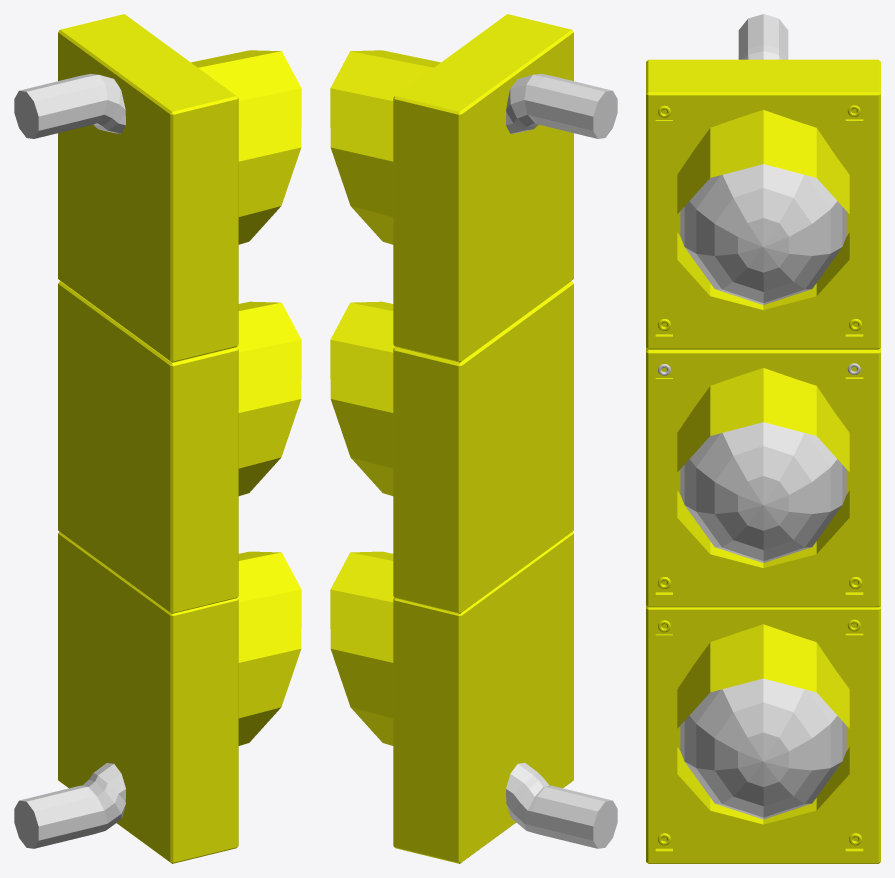
File: Semaforo1.fbx
3 renders of one model, left to right at view 1: azimuth 30°, elevation 25°; view 2: azimuth 150°, elevation 25°; view 3: azimuth 270°, elevation 25°, orthographic. The views are drawn at different scales.
Visible parts, largest first — view 1: Base (×3), CoberturaLuz (×3), Agarre (×2); view 2: Base (×3), CoberturaLuz (×3), Agarre (×2); view 3: Base (×3), Luz (×3), CoberturaLuz (×3), Agarre.
Part boxes in pixels (x1,y1,x2,y2): Base (×3): (58,14,238,863); CoberturaLuz (×3): (191,50,301,745); Agarre (×2): (14,73,125,848); Base (×3): (393,14,573,863); CoberturaLuz (×3): (330,50,440,745); Agarre (×2): (506,73,617,848); Base (×3): (646,59,880,863); Luz (×3): (680,164,846,819); CoberturaLuz (×3): (677,110,849,824); Agarre: (738,14,788,59).
Size of the model in its own units: 0.8174 by 2.31 by 0.6348.
